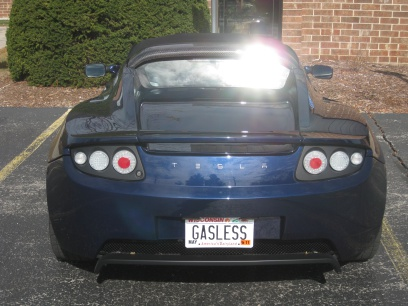car: (46, 32, 387, 275)
